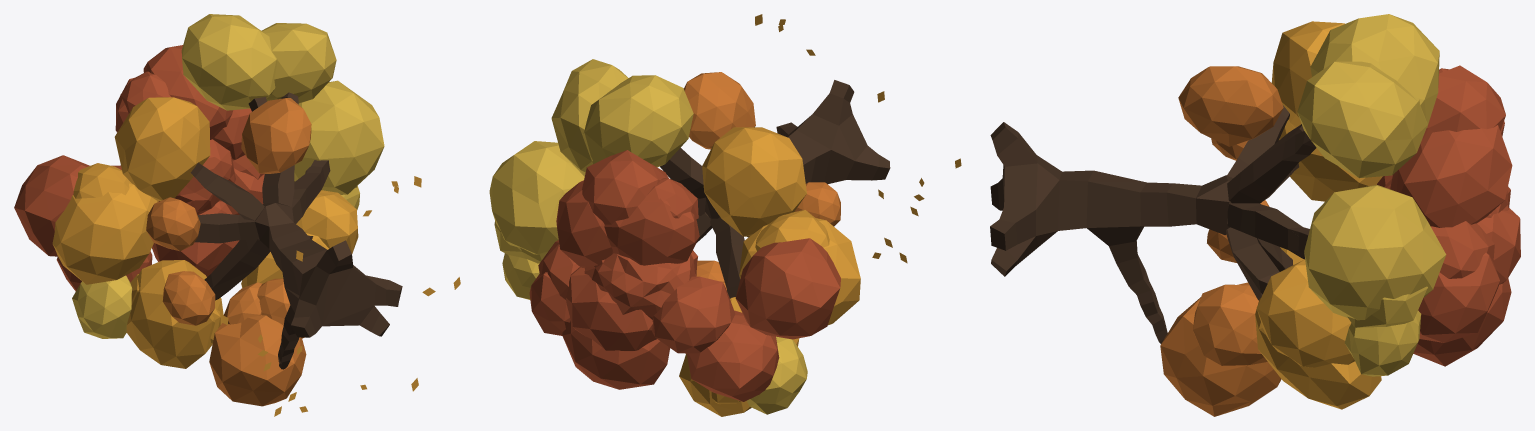
Rendered from TreeOakAutumnB5.fbx.
3 views of the same model, side by side, from view 1: azimuth 30°, elevation 25°; view 2: azimuth 150°, elevation 25°; view 3: azimuth 270°, elevation 25° (orthographic). The views are drawn at different scales.
Visible parts, largest first — view 1: M_Tree_Leaf_Amber, M_Tree_Leaf_Gold, M_Tree_Bark.001, M_Tree_Leaf_Orange, M_Tree_Leaf_Rust; view 2: M_Tree_Leaf_Rust, M_Tree_Leaf_Gold, M_Tree_Leaf_Amber, M_Tree_Bark.001, M_Tree_Leaf_Orange; view 3: M_Tree_Leaf_Gold, M_Tree_Bark.001, M_Tree_Leaf_Rust, M_Tree_Leaf_Orange, M_Tree_Leaf_Amber.
Boxes of the visible parts, bbox=[...] form: M_Tree_Leaf_Amber: bbox=[52, 97, 460, 416]; M_Tree_Leaf_Gold: bbox=[72, 14, 384, 338]; M_Tree_Bark.001: bbox=[190, 92, 402, 369]; M_Tree_Leaf_Orange: bbox=[146, 98, 311, 406]; M_Tree_Leaf_Rust: bbox=[14, 45, 264, 291]; M_Tree_Leaf_Rust: bbox=[529, 150, 840, 401]; M_Tree_Leaf_Gold: bbox=[489, 59, 807, 414]; M_Tree_Leaf_Amber: bbox=[679, 14, 961, 416]; M_Tree_Bark.001: bbox=[660, 80, 890, 298]; M_Tree_Leaf_Orange: bbox=[683, 72, 840, 289]; M_Tree_Leaf_Gold: bbox=[1297, 14, 1446, 376]; M_Tree_Bark.001: bbox=[990, 105, 1316, 343]; M_Tree_Leaf_Rust: bbox=[1377, 65, 1520, 366]; M_Tree_Leaf_Orange: bbox=[1160, 66, 1283, 416]; M_Tree_Leaf_Amber: bbox=[1255, 21, 1382, 409].
Size of the model in its own units: 2841 by 2644 by 3124.
